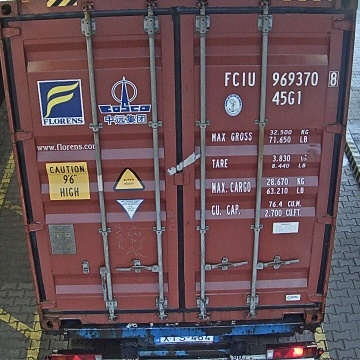serial_id: (225, 71, 338, 86)
